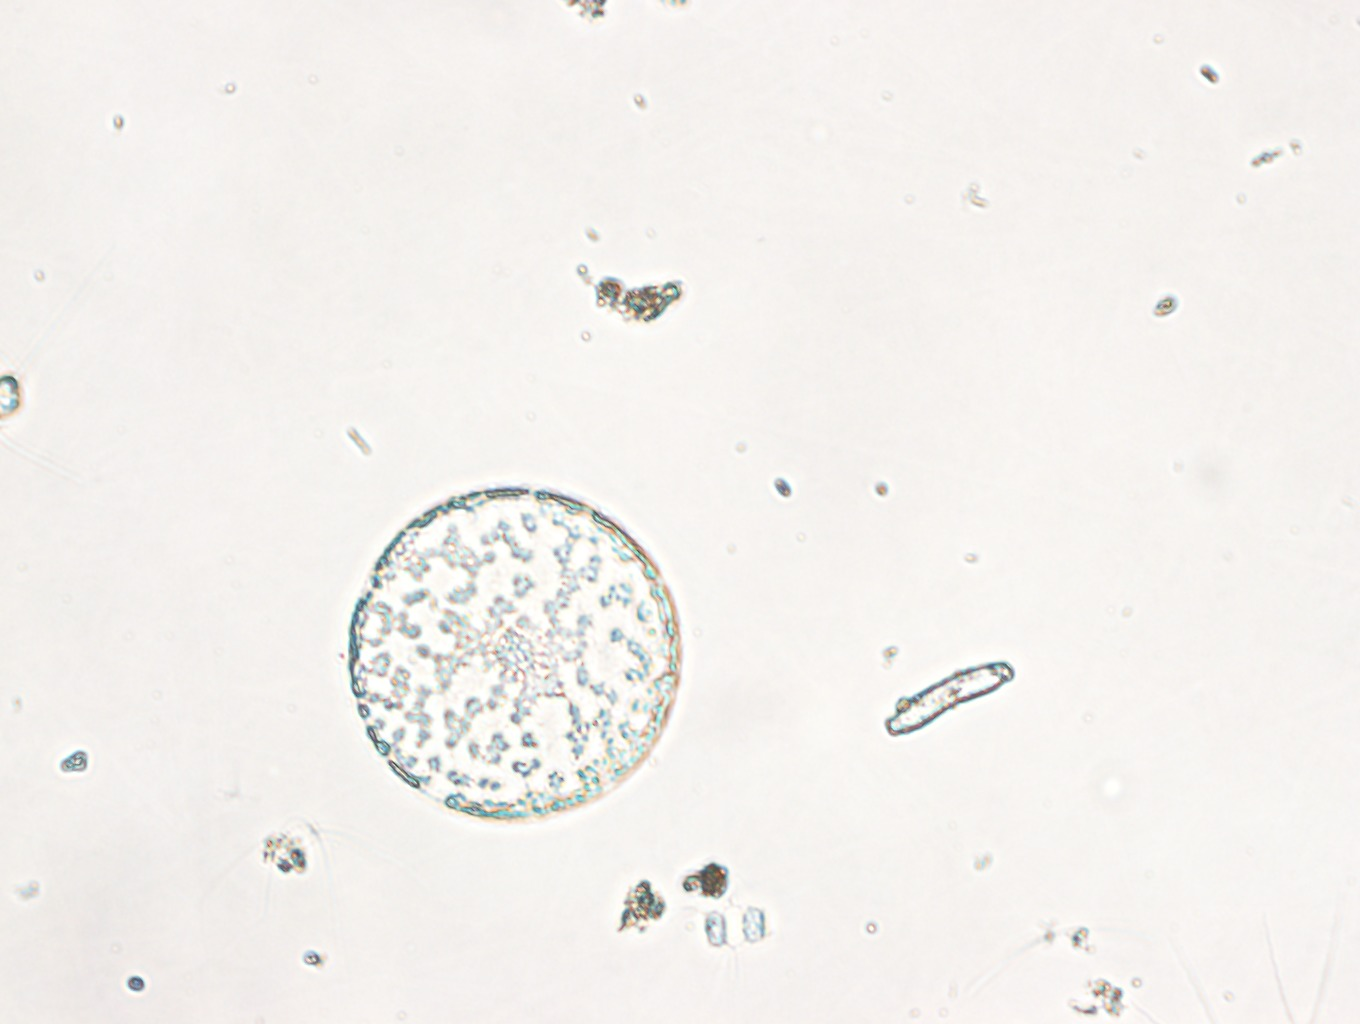coscinodiscus: (345, 485, 685, 822)
